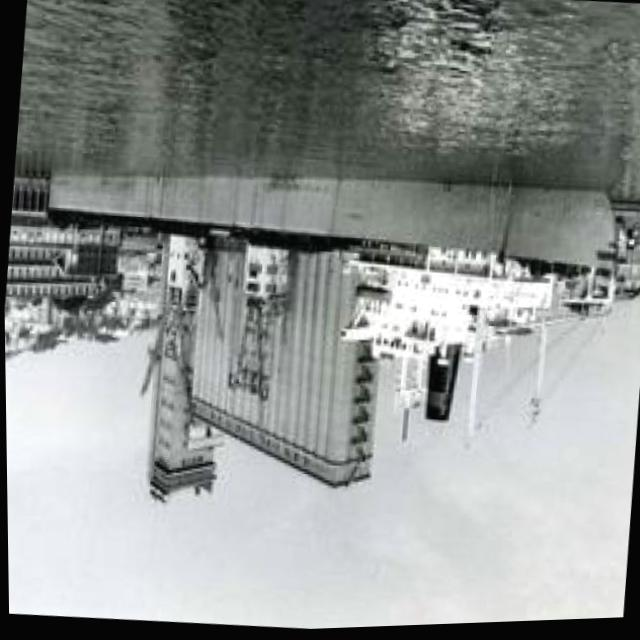ship2: (38, 167, 621, 437)
